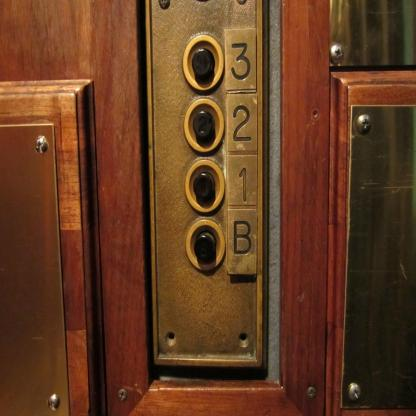1: (226, 152, 258, 206)
2: (184, 98, 224, 152), (226, 93, 258, 152)
3: (224, 28, 257, 93)
B: (226, 207, 258, 275)
blur: (182, 34, 224, 91), (184, 158, 225, 214), (186, 219, 226, 272)
